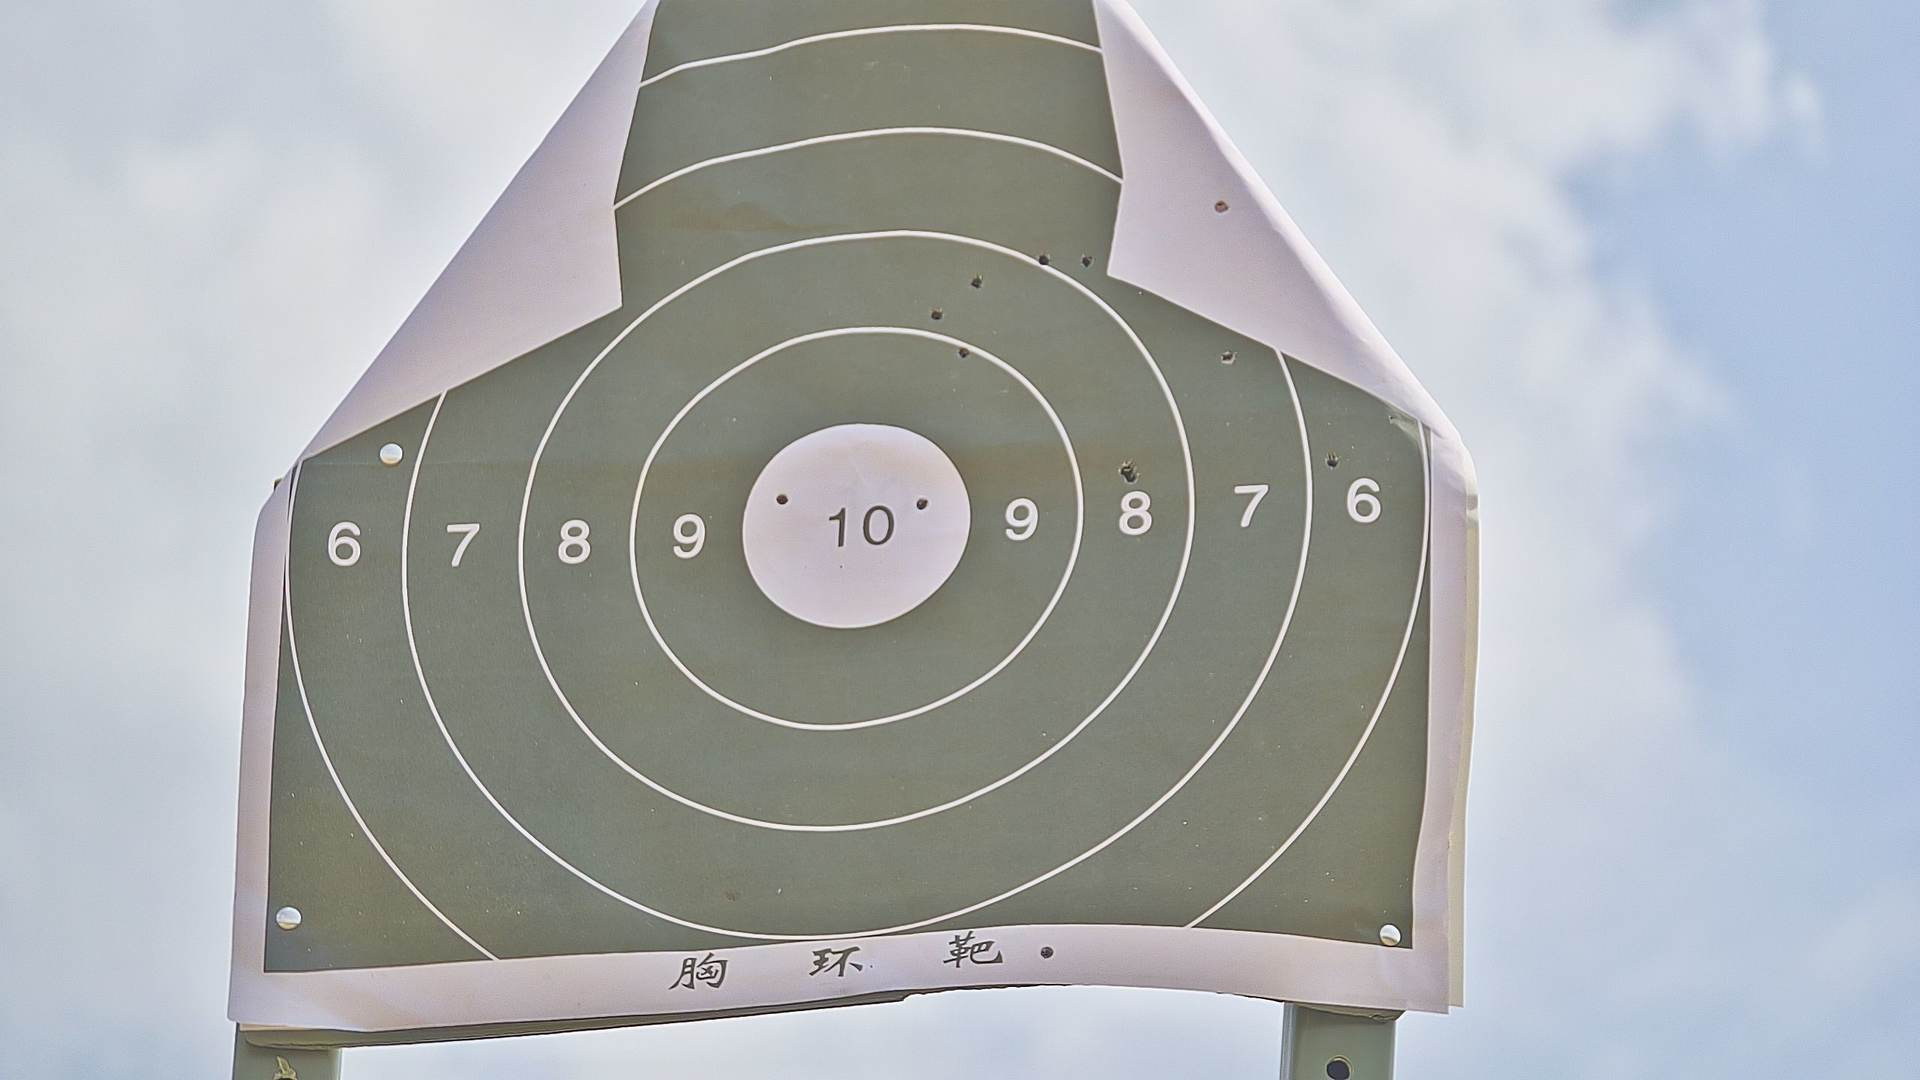hole: (1117, 459, 1135, 476), (1077, 253, 1096, 269), (1220, 349, 1237, 365), (1323, 452, 1340, 468), (931, 305, 945, 322), (1039, 944, 1054, 960), (1035, 253, 1052, 266), (971, 274, 985, 289), (957, 343, 971, 359), (775, 492, 790, 505), (914, 496, 928, 509), (1126, 472, 1139, 487)
kernel: (852, 522, 857, 530)
target: (266, 9, 1432, 975)
ten: (738, 415, 973, 629)
